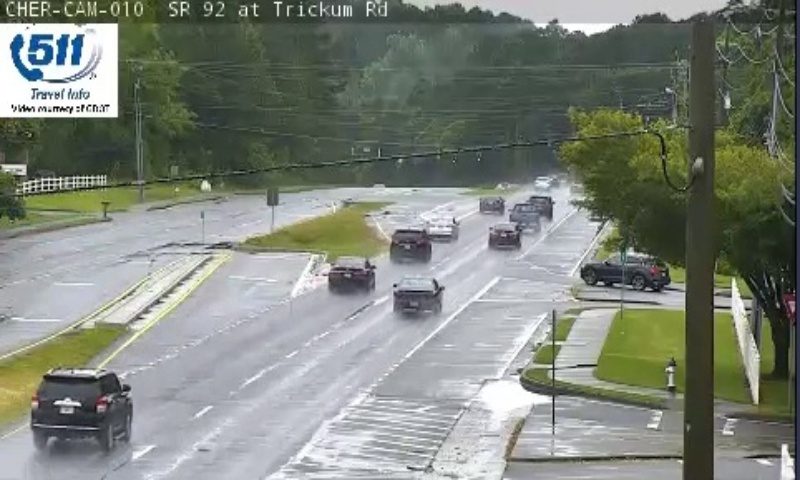car: (31, 369, 132, 440), (393, 277, 443, 312), (328, 256, 375, 288), (391, 229, 431, 261), (424, 214, 458, 241), (488, 222, 520, 250), (509, 202, 537, 227), (478, 193, 502, 212)
